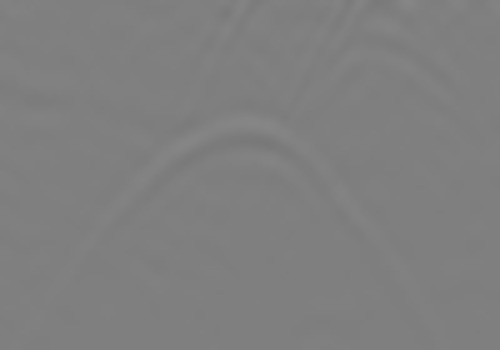hyperbola: (80, 114, 399, 332)
